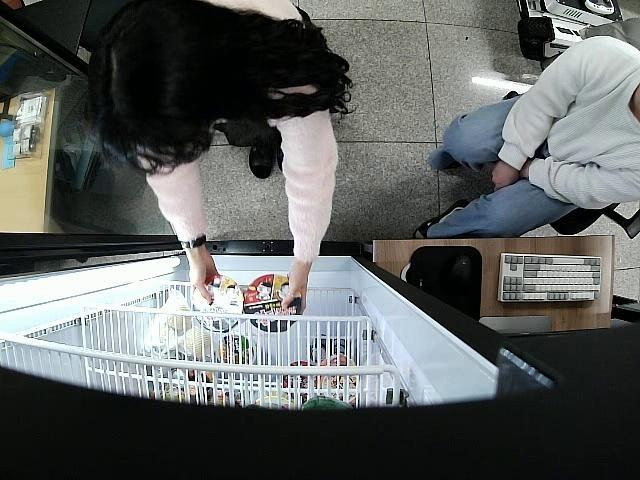07_buldak_L: (244, 278, 301, 333), (192, 276, 245, 333)
